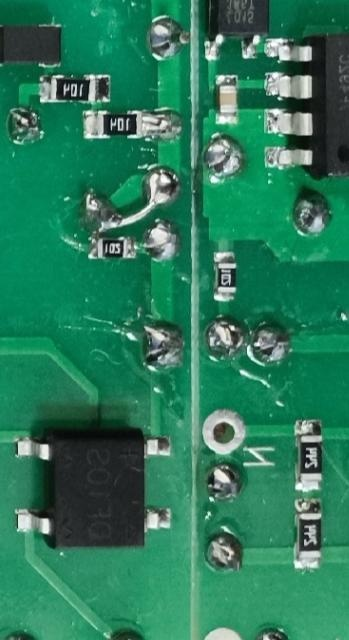chip-capacitor: (211, 73, 237, 126)
chip-resistor: (36, 72, 112, 104), (289, 420, 322, 492), (291, 499, 321, 572), (79, 108, 144, 140), (210, 250, 236, 304), (86, 235, 138, 261)
diode: (0, 22, 63, 70)
ic: (10, 428, 170, 551), (260, 32, 349, 181), (199, 0, 268, 62)
